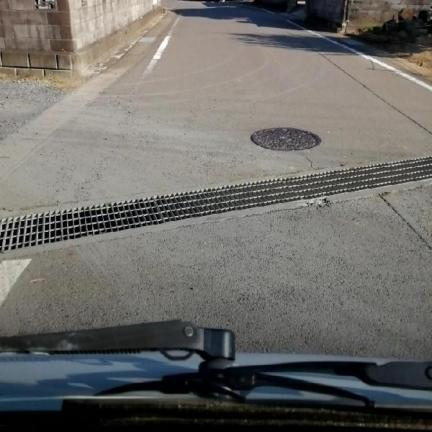Road: (0, 185, 431, 357)
